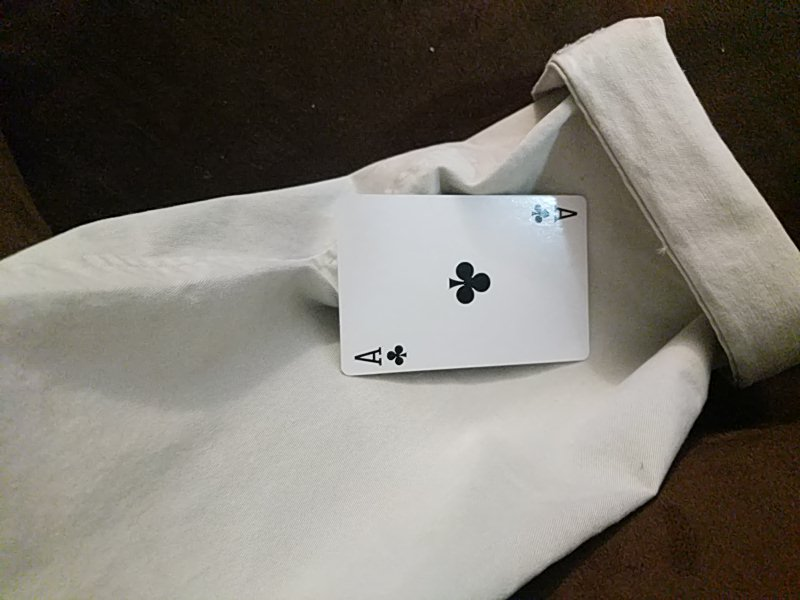Clubs: (337, 193, 592, 372)
